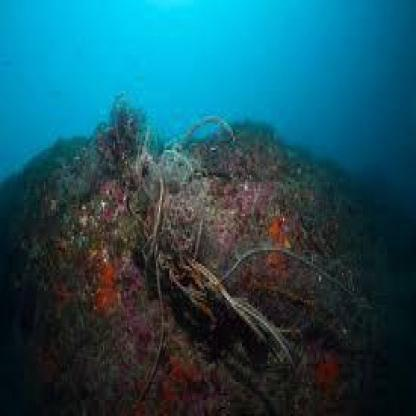net: (121, 130, 310, 368)
